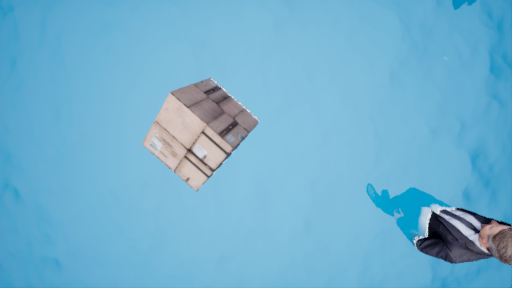person: (364, 183, 512, 268)
